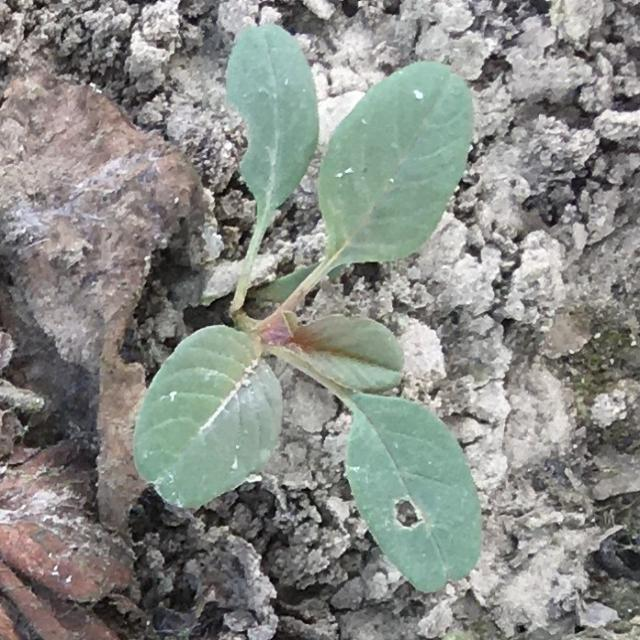PalmerAmaranth: (134, 24, 482, 593)
